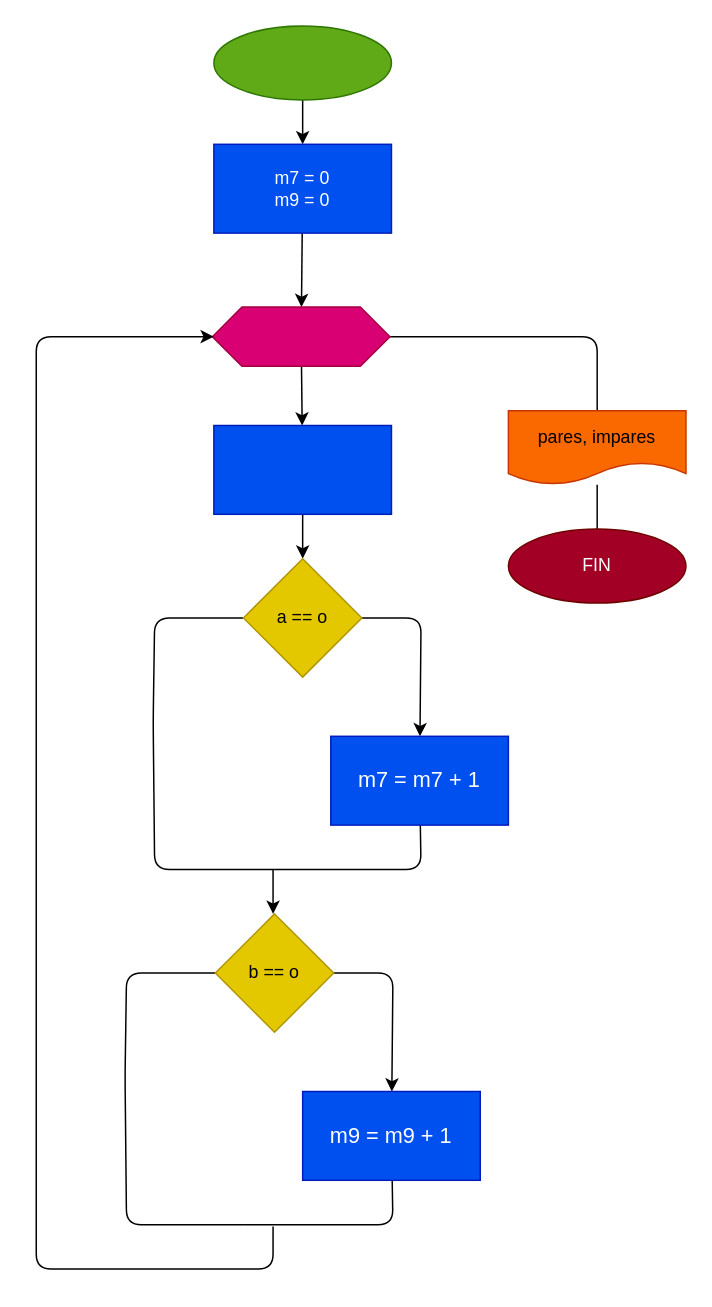
Image size: 712x1307. Some labels were removed from this diagram. The shapes that lost their labels are listed below. From the top down, each one's centre as x and y in pixels, then its label:
the point at 301,62: INICIO
the point at 300,336: i = range(1000,5000)
the point at 301,469: a = i % 7 b = i % 9
